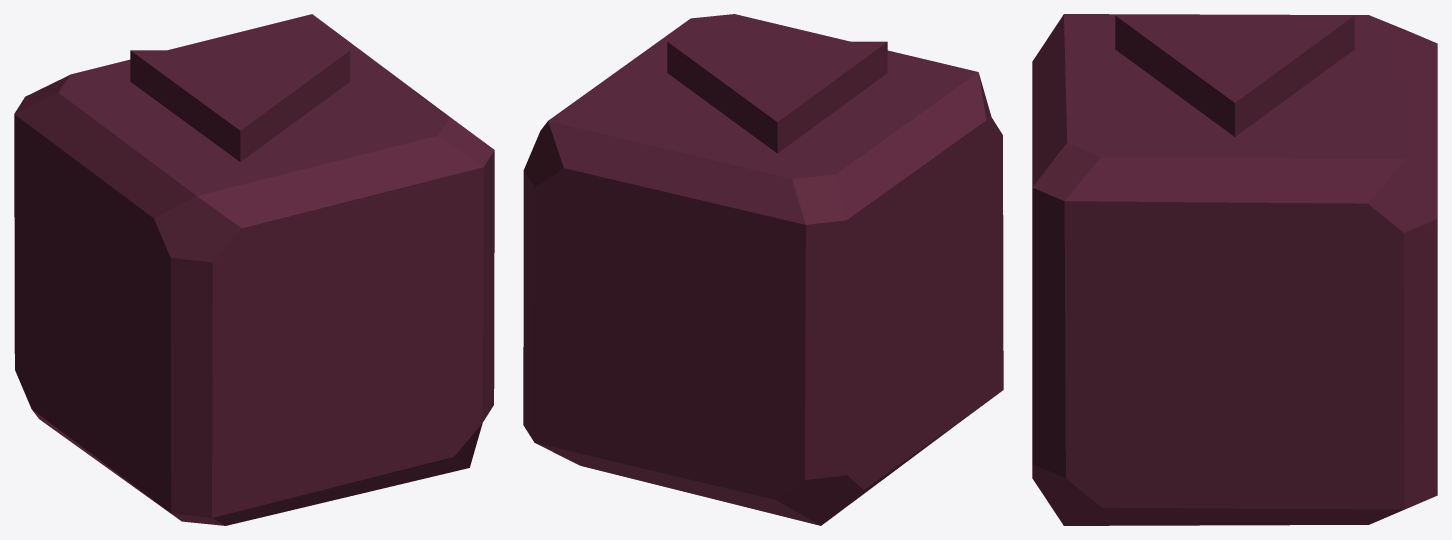
The model's file is arrowCube.glb.
3 renders of one model, left to right at view 1: azimuth 30°, elevation 25°; view 2: azimuth 150°, elevation 25°; view 3: azimuth 270°, elevation 25°, orthographic. The views are drawn at different scales.
Visible parts, largest first — view 1: ArrowCube; view 2: ArrowCube; view 3: ArrowCube.
Part boxes in pixels (x1,y1,x2,y2): ArrowCube: (14, 14, 494, 525); ArrowCube: (523, 14, 1003, 525); ArrowCube: (1032, 14, 1437, 525).
Bounding box in the file's own units: 2 × 2.19 × 2.
